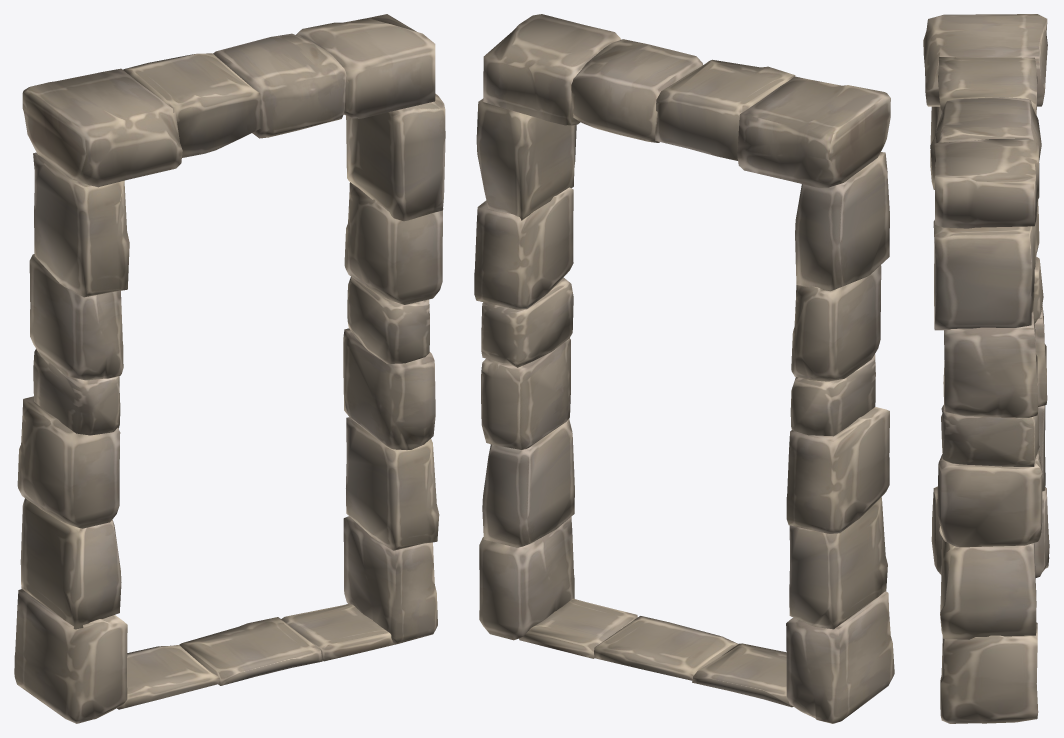
The model's file is DoorFrame_Flat_Brick.gltf.
3 views of the same model, side by side, from view 1: azimuth 30°, elevation 25°; view 2: azimuth 150°, elevation 25°; view 3: azimuth 270°, elevation 25° (orthographic). The views are drawn at different scales.
Parts seen in each view (by area): view 1: DoorFrame_Flat_Brick; view 2: DoorFrame_Flat_Brick; view 3: DoorFrame_Flat_Brick.
Boxes of the visible parts, x1,y1,x2,y2 form: DoorFrame_Flat_Brick: (14, 14, 445, 723); DoorFrame_Flat_Brick: (474, 14, 894, 723); DoorFrame_Flat_Brick: (923, 14, 1049, 723).
Size of the model in its own units: 1.57 by 2.38 by 0.4943.
1 material, 1 textured.
